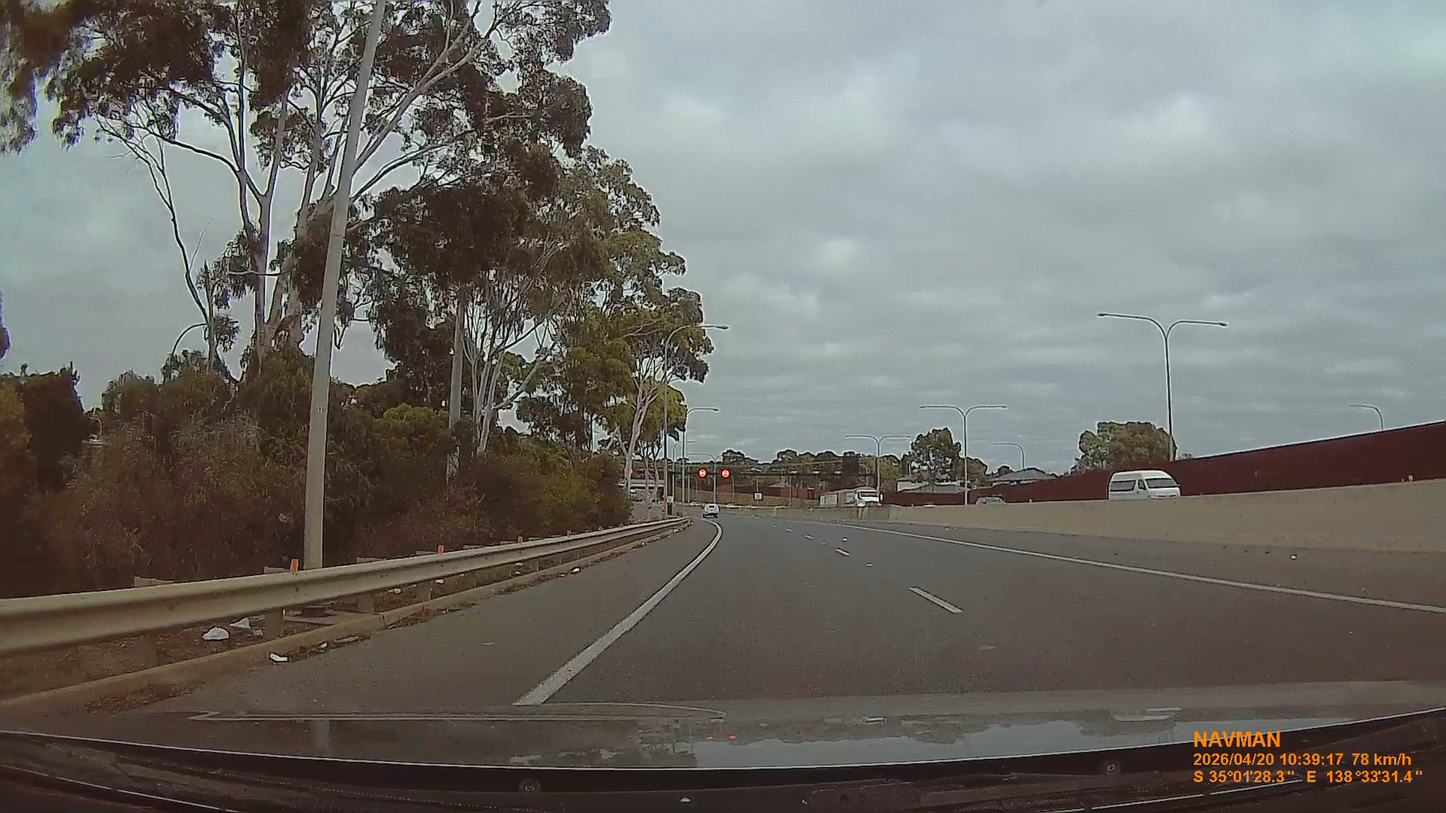road barriers: (0, 521, 677, 653), (814, 480, 1445, 560)
